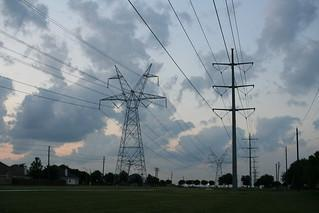power_tower: (91, 56, 174, 191), (204, 45, 255, 194)
